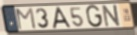3: (35, 7, 50, 29)
5: (69, 6, 86, 28)
A: (52, 6, 73, 30)
G: (85, 4, 104, 29)
M: (15, 7, 38, 31)
N: (101, 4, 123, 29)
